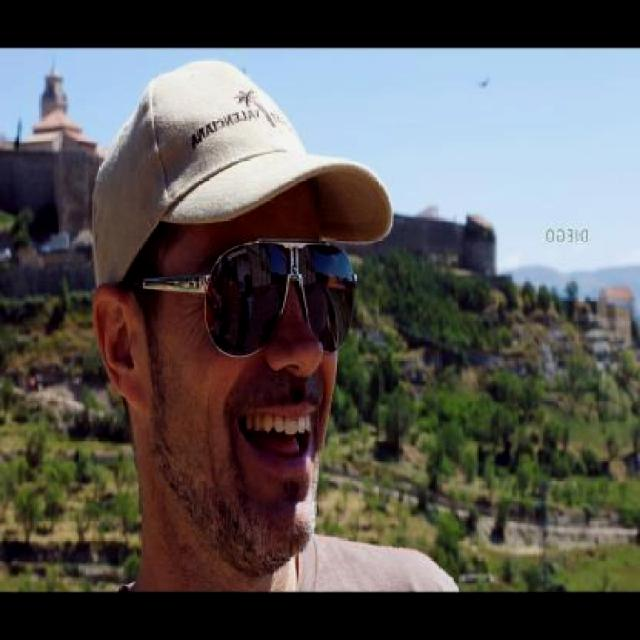face_nomask: (201, 238, 361, 484)
glasses: (114, 247, 354, 361)
head_nohelmet: (105, 64, 370, 253)
